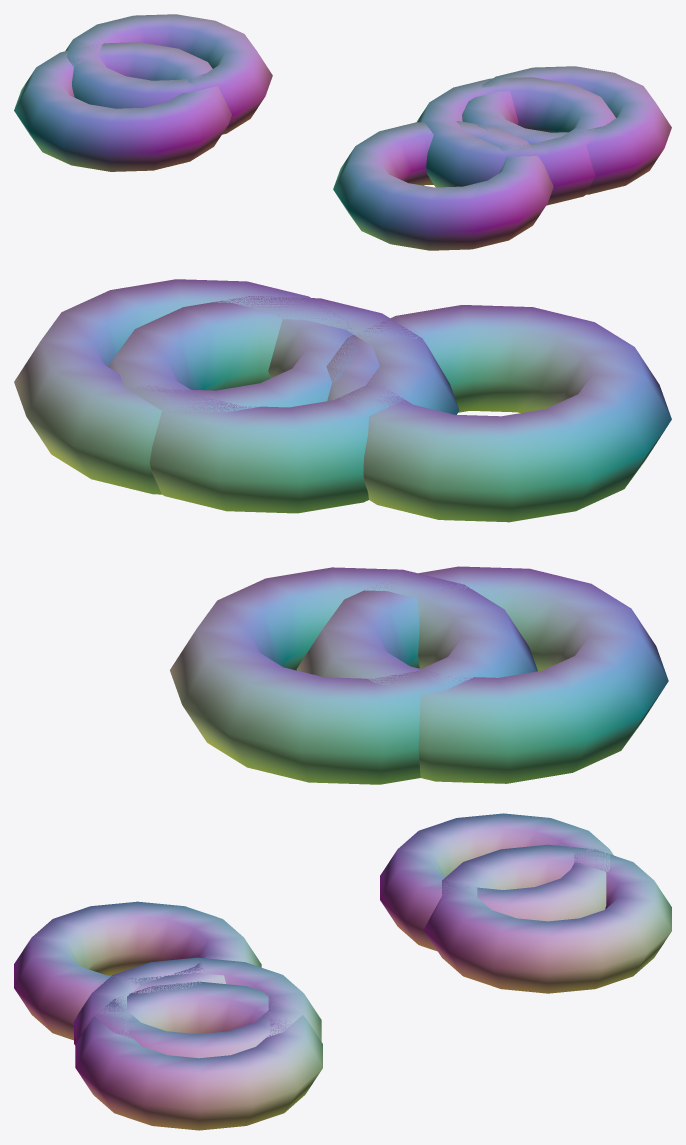
Rendered from env_deco_cereal.glb.
3 views of the same model, one above another, from view 1: azimuth 30°, elevation 25°; view 2: azimuth 150°, elevation 25°; view 3: azimuth 270°, elevation 25° (orthographic). The views are drawn at different scales.
Visible parts, largest first — view 1: env_deco_cereal_mesh; view 2: env_deco_cereal_mesh; view 3: env_deco_cereal_mesh.
Boxes of the visible parts, x1,y1,x2,y2 form: env_deco_cereal_mesh: (14, 14, 671, 250); env_deco_cereal_mesh: (14, 279, 671, 784); env_deco_cereal_mesh: (14, 813, 671, 1130).
Size of the model in its own units: 0.2874 by 0.0277 by 0.2902.
